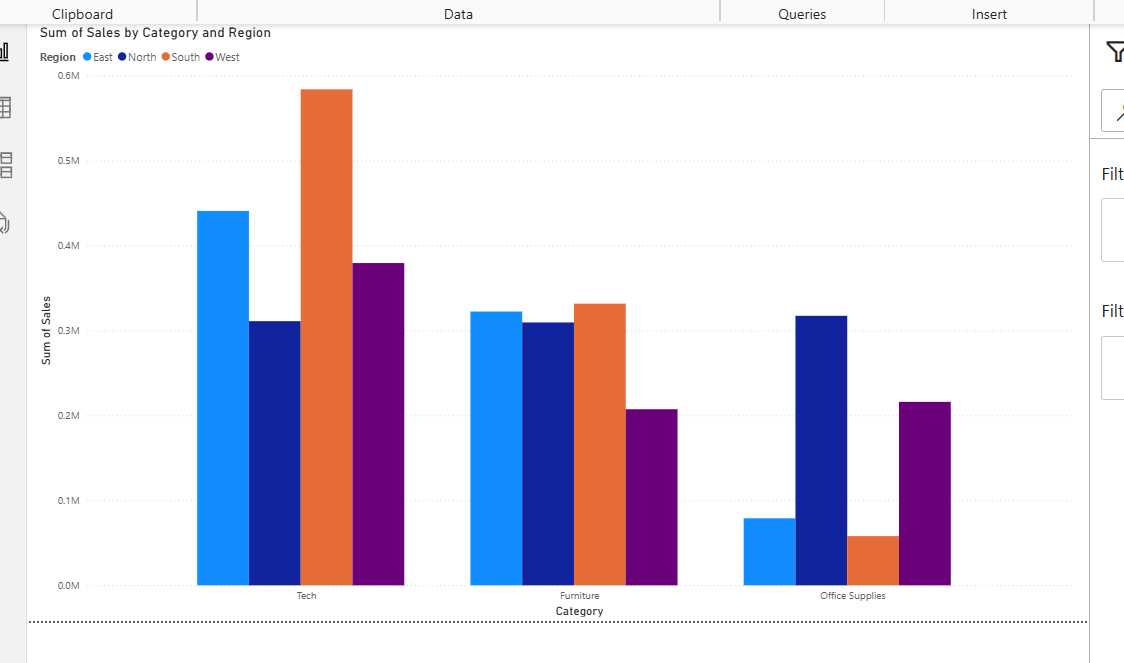

The page's visual inventory and layout, read from the dashboard file:
{"tool":"powerbi","page":{"name":"2","canvas":[1280,720],"ordinal":1},"visuals":[{"type":"clusteredColumnChart","fields":{"Category":["sales_data_powerbi.Category"],"Y":["Sum(sales_data_powerbi.Sales)"],"Series":["sales_data_powerbi.Region"]},"box":[10.3,0,1253.8,719.7],"z":0}]}

Visuals, with their boxes on the page's 1280x720 design canvas (x1, y1, x2, y2). These are canvas units, not pixel positions in the 1124x663 screenshot, which may show the page scaled, cropped or inside an application window:
clusteredColumnChart - sales_data_powerbi.Category x Sum(sales_data_powerbi.Sales): detection(10, 0, 1264, 720)
